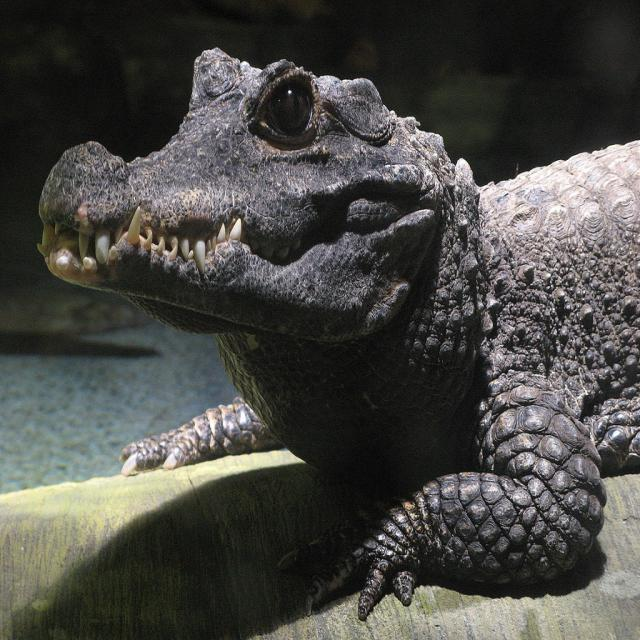crocodile: (45, 49, 639, 616)
